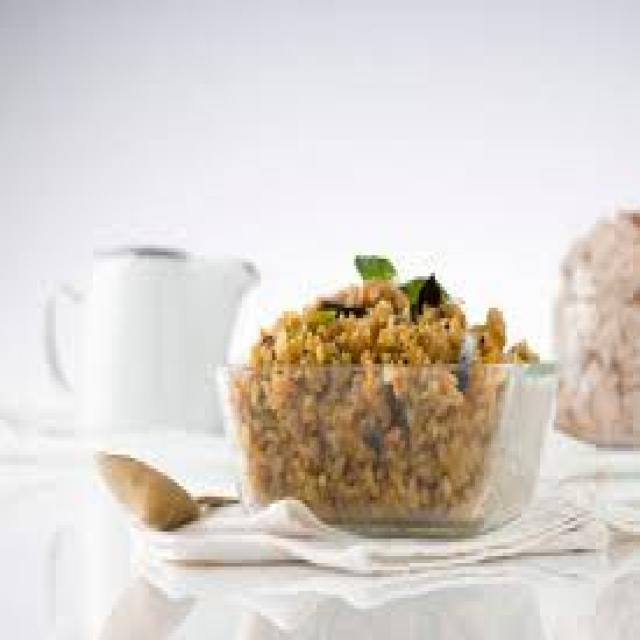UPMA: (253, 273, 530, 370)
